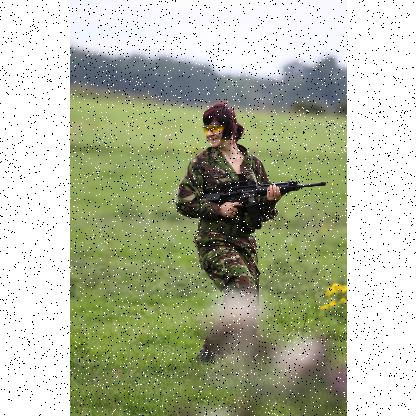gun: (190, 176, 320, 222)
